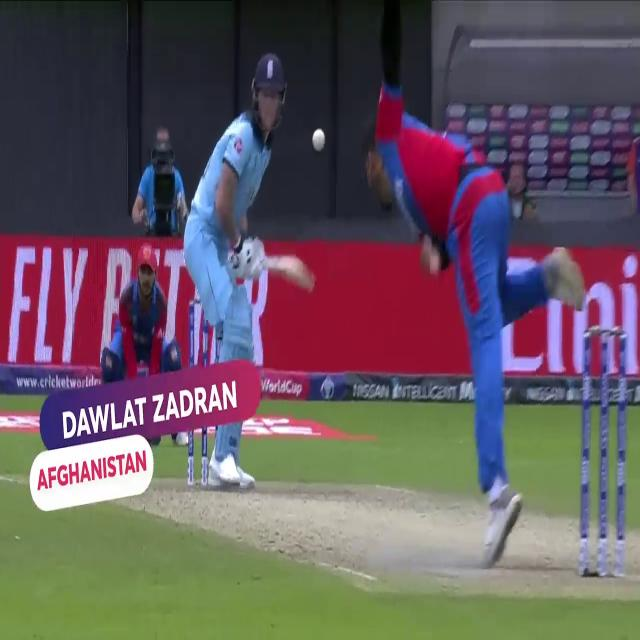ball: (310, 123, 328, 158)
